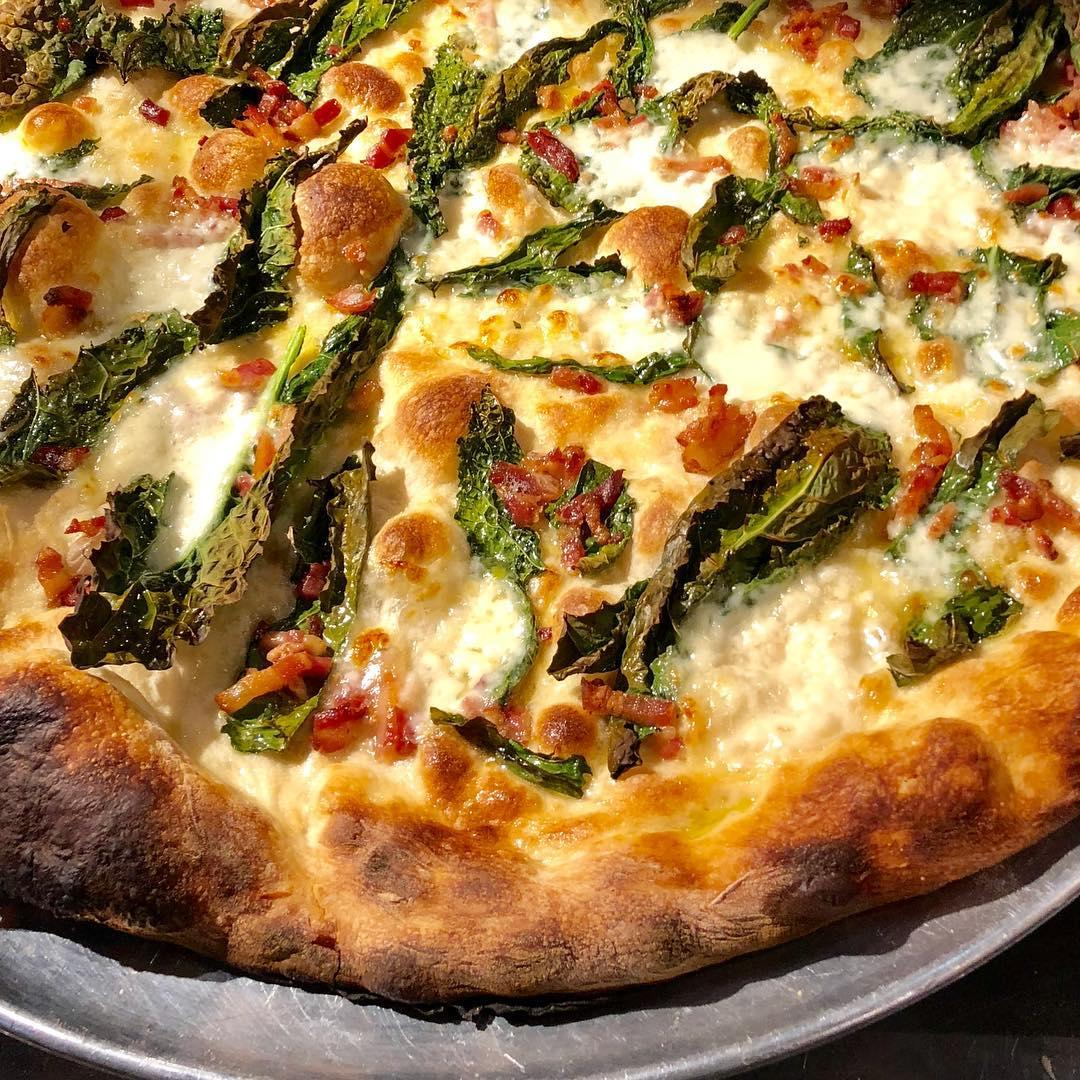Arugula: (564, 397, 877, 669), (301, 51, 481, 449), (77, 405, 300, 661), (216, 450, 375, 748), (0, 301, 198, 497), (667, 71, 1032, 146), (199, 134, 302, 363), (0, 0, 224, 105), (483, 18, 629, 163), (464, 388, 542, 584), (689, 172, 775, 292)
Pizza: (0, 0, 1080, 1023)
